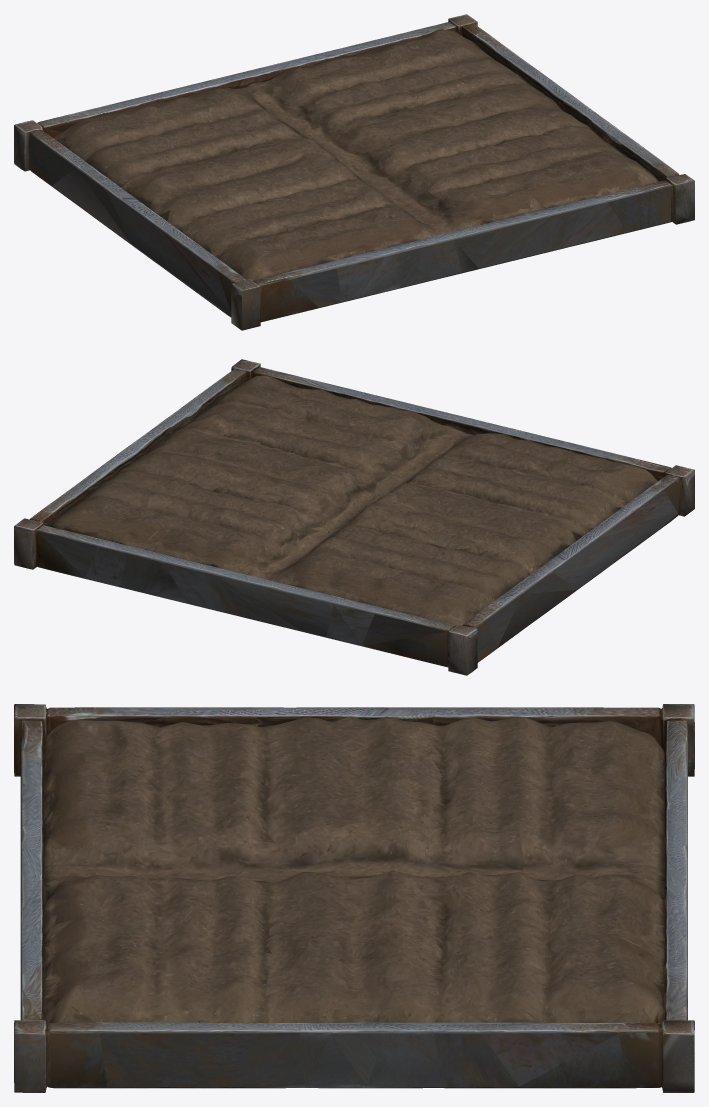
The model's file is Parcelle.glb.
The picture shows the model from 3 angles, top to bottom: view 1: azimuth 30°, elevation 25°; view 2: azimuth 150°, elevation 25°; view 3: azimuth 270°, elevation 25°; orthographic projection. The views are drawn at different scales.
Parts seen in each view (by area): view 1: Meshy_Mesh_0; view 2: Meshy_Mesh_0; view 3: Meshy_Mesh_0.
Boxes of the visible parts, bbox=[...] form: Meshy_Mesh_0: bbox=[14, 14, 694, 330]; Meshy_Mesh_0: bbox=[14, 359, 694, 675]; Meshy_Mesh_0: bbox=[14, 704, 694, 1092].
Size of the model in its own units: 1.9 by 0.2135 by 1.66.
Materials: 1 (1 with a texture image).
